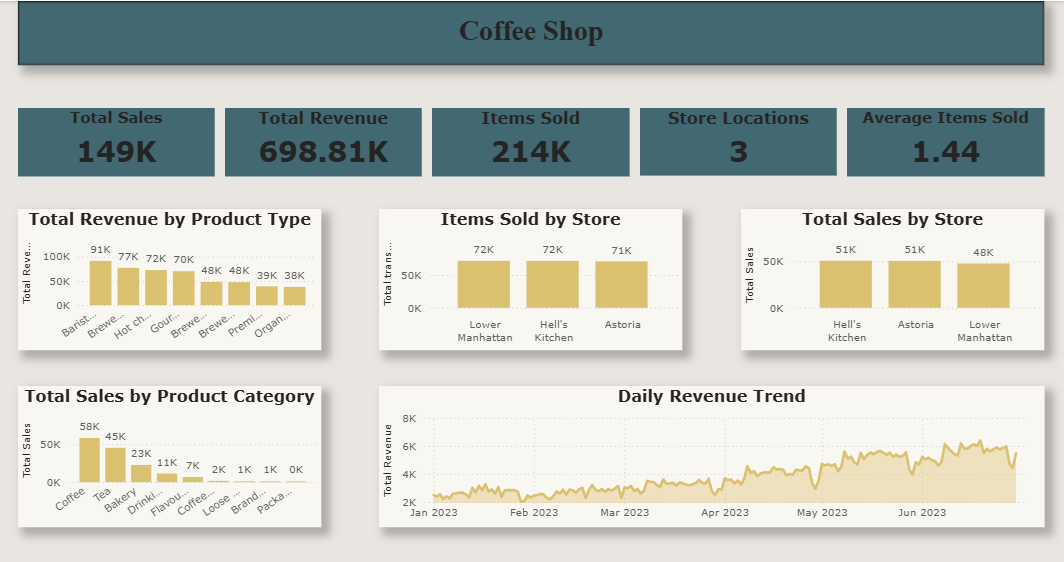

Layout of this report page (visuals, bound fields, positions):
{"tool":"powerbi","page":{"name":"Page 1","canvas":[1280,720],"ordinal":0},"visuals":[{"type":"shape","title":"h","box":[51,0,1184,74],"z":0},{"type":"textbox","box":[51,12,1184,62],"z":1000},{"type":"card","title":"Average Items Sold","fields":{"Values":["Calculations.Average Transaction Quantity"]},"box":[1007.4,123.4,227.7,78.7],"z":3000},{"type":"card","title":"Store Locations","fields":{"Values":["Calculations.Total Store Location"]},"box":[768.1,123.4,227.3,78.5],"z":6000},{"type":"card","title":"Total Sales","fields":{"Values":["Calculations.Total Sales"]},"box":[51.1,123.4,226.6,78.7],"z":7000},{"type":"card","title":"Total Revenue","fields":{"Values":["Calculations.Total Revenue"]},"box":[289.7,123.4,226.6,78.7],"z":8000},{"type":"columnChart","title":"Total Revenue by Product Type","fields":{"Category":["Fact Coffee Sales.product_type"],"Y":["Calculations.Total Revenue"]},"box":[51,240,350,163],"z":9000},{"type":"lineChart","title":"Daily Revenue Trend","fields":{"Category":["Fact Coffee Sales.transaction_date"],"Y":["Calculations.Total Revenue"]},"box":[467,444,768,163],"z":10000},{"type":"columnChart","title":"Total Sales by Store","fields":{"Category":["Fact Coffee Sales.store_location"],"Y":["Calculations.Total Sales"]},"box":[885,240,350,163],"z":11000},{"type":"columnChart","title":"Items Sold by Store","fields":{"Category":["Fact Coffee Sales.store_location"],"Y":["Calculations.Total transaction quantity"]},"box":[467,240,350,163],"z":12000},{"type":"columnChart","title":"Total Sales by Product Category","fields":{"Y":["Calculations.Total Sales"],"Category":["Fact Coffee Sales.product_category"]},"box":[51,444,350,163],"z":13000},{"type":"card","title":"Items Sold","fields":{"Values":["Calculations.Total transaction quantity"]},"box":[528.4,123.4,227.7,78.7],"z":14000}]}

Visuals, with their boxes on the page's 1280x720 design canvas (x1, y1, x2, y2). These are canvas units, not pixel positions in the 1064x562 screenshot, which may show the page scaled, cropped or inside an application window:
"h" shape: 51/0/1235/74
textbox: 51/12/1235/74
"Average Items Sold" card: 1007/123/1235/202
"Store Locations" card: 768/123/995/202
"Total Sales" card: 51/123/278/202
"Total Revenue" card: 290/123/516/202
"Total Revenue by Product Type" columnChart: 51/240/401/403
"Daily Revenue Trend" lineChart: 467/444/1235/607
"Total Sales by Store" columnChart: 885/240/1235/403
"Items Sold by Store" columnChart: 467/240/817/403
"Total Sales by Product Category" columnChart: 51/444/401/607
"Items Sold" card: 528/123/756/202
